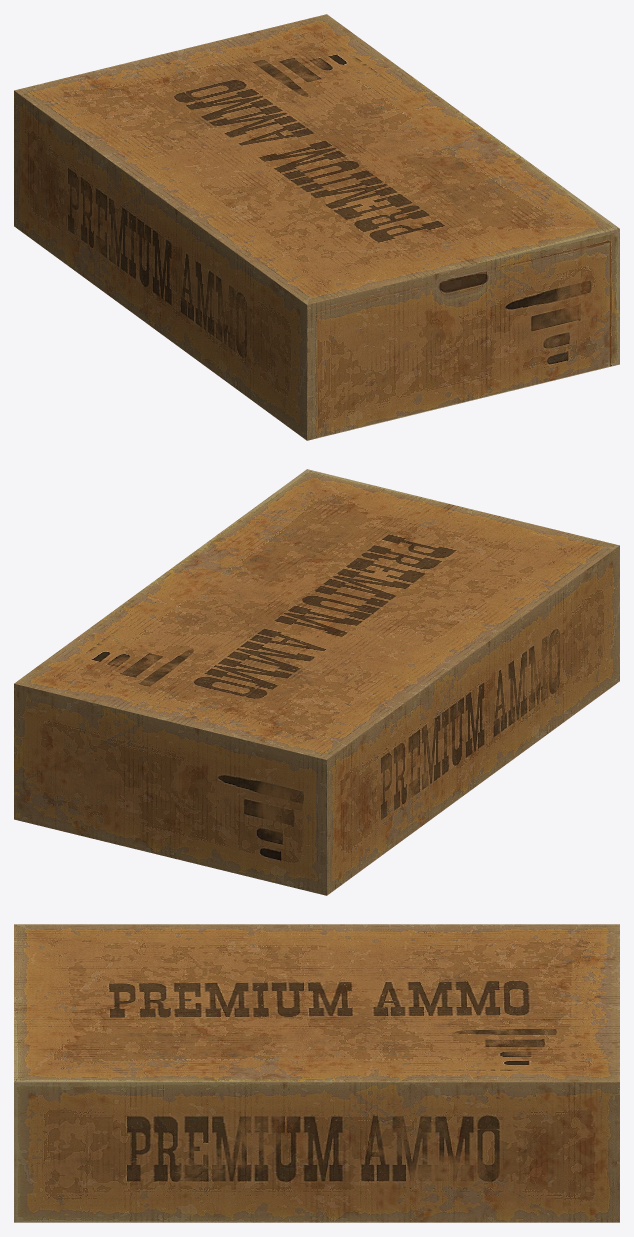
File: ammo_box_50.glb
The picture shows the model from 3 angles, top to bottom: view 1: azimuth 30°, elevation 25°; view 2: azimuth 150°, elevation 25°; view 3: azimuth 270°, elevation 25°; orthographic projection. The views are drawn at different scales.
Parts seen in each view (by area): view 1: ammo_box_50; view 2: ammo_box_50; view 3: ammo_box_50.
Part boxes in pixels (box(x1,y1,x2,y2)): ammo_box_50: box(14, 14, 619, 440); ammo_box_50: box(14, 469, 619, 895); ammo_box_50: box(14, 924, 619, 1222).
Bounding box in the file's own units: 0.0801 × 0.0332 × 0.13.
Materials: 1 (1 with a texture image).
